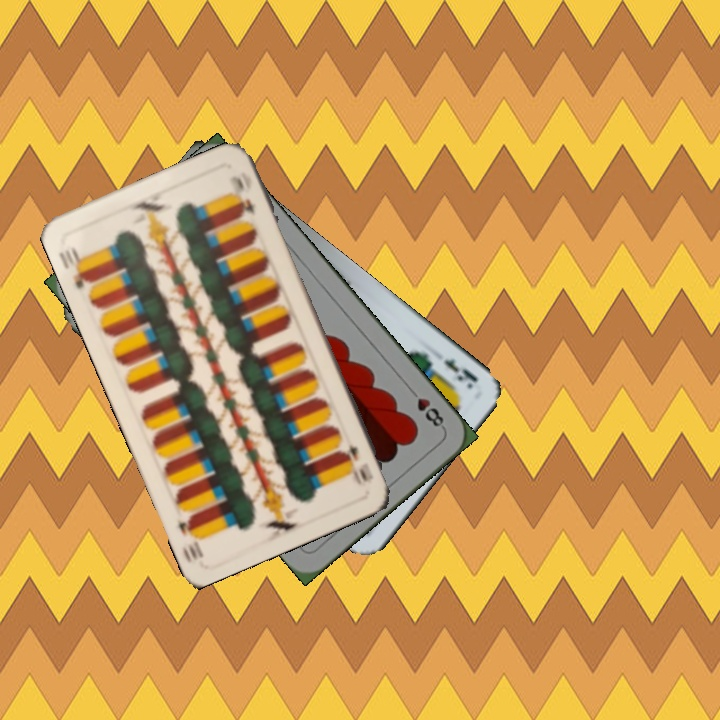E10: (54, 243, 96, 292), (340, 439, 376, 488)
EK: (440, 355, 481, 385)
H8: (404, 383, 448, 432)
